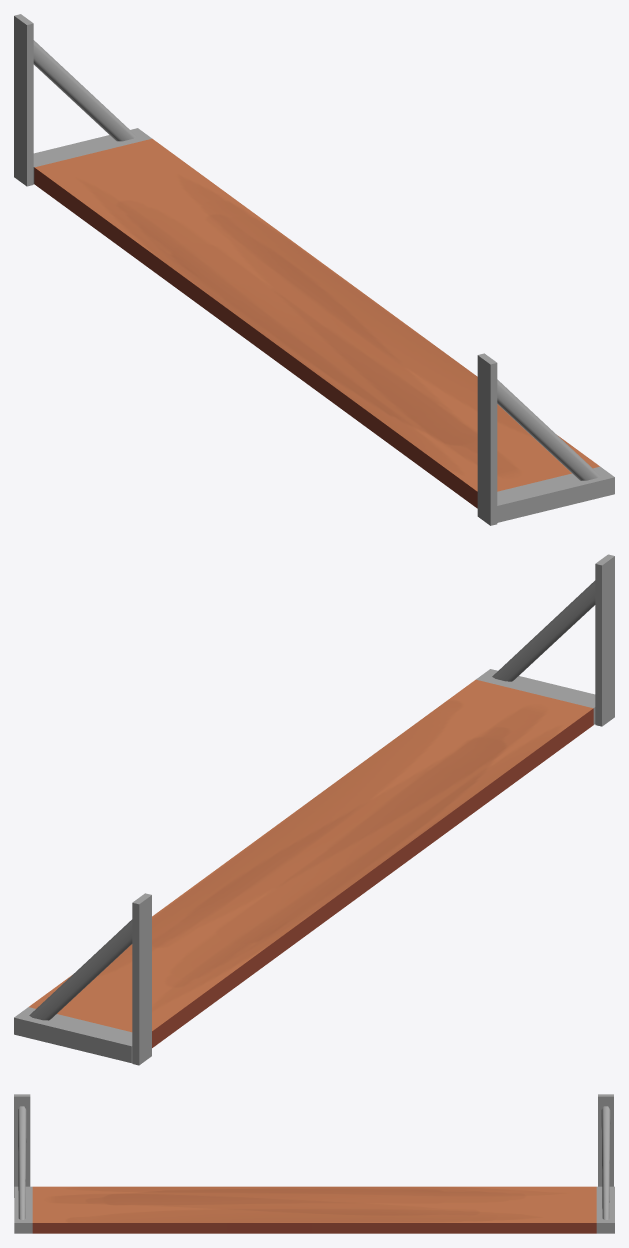
File: wallShelf.fbx
The picture shows the model from 3 angles, top to bottom: view 1: azimuth 30°, elevation 25°; view 2: azimuth 150°, elevation 25°; view 3: azimuth 270°, elevation 25°; orthographic projection. The views are drawn at different scales.
Visible parts, largest first — view 1: wallShelf; view 2: wallShelf; view 3: wallShelf.
Part boxes in pixels (left/top/right/bottom): wallShelf: left=14, top=14, right=614, bottom=525; wallShelf: left=14, top=554, right=614, bottom=1065; wallShelf: left=14, top=1094, right=614, bottom=1233.
Size of the model in its own units: 30.39 by 37.61 by 202.
2 materials, 1 textured.
